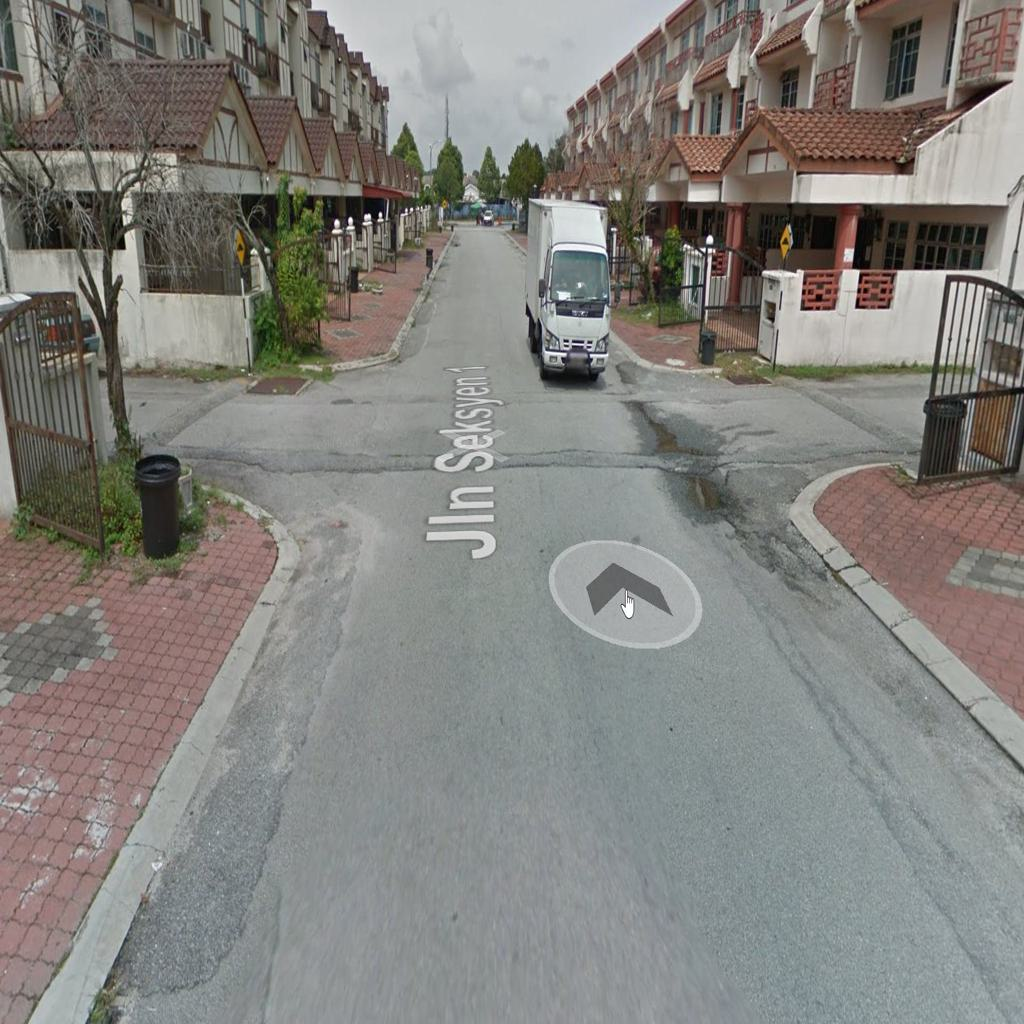Junction: (77, 332, 396, 558), (642, 334, 969, 530)
